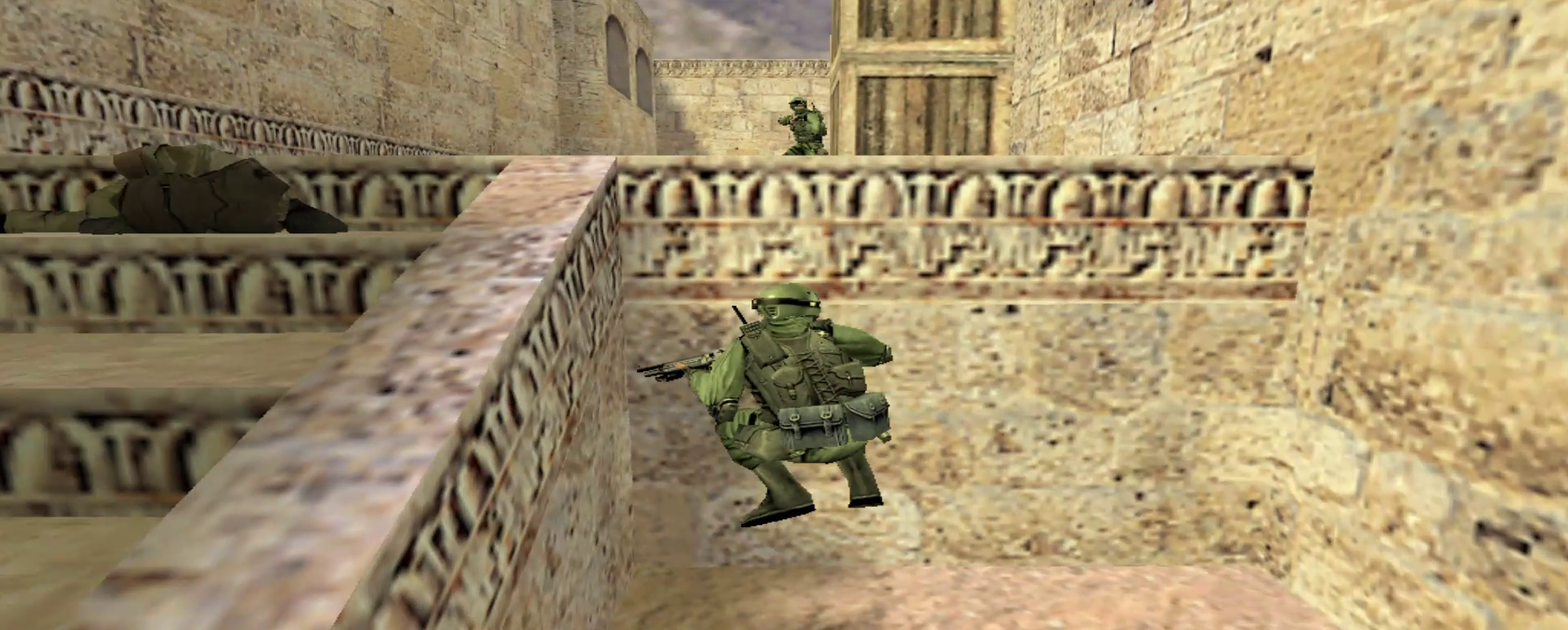counter: (690, 324, 894, 522), (778, 113, 826, 154)
counter_head: (751, 283, 824, 321), (788, 95, 808, 111)
